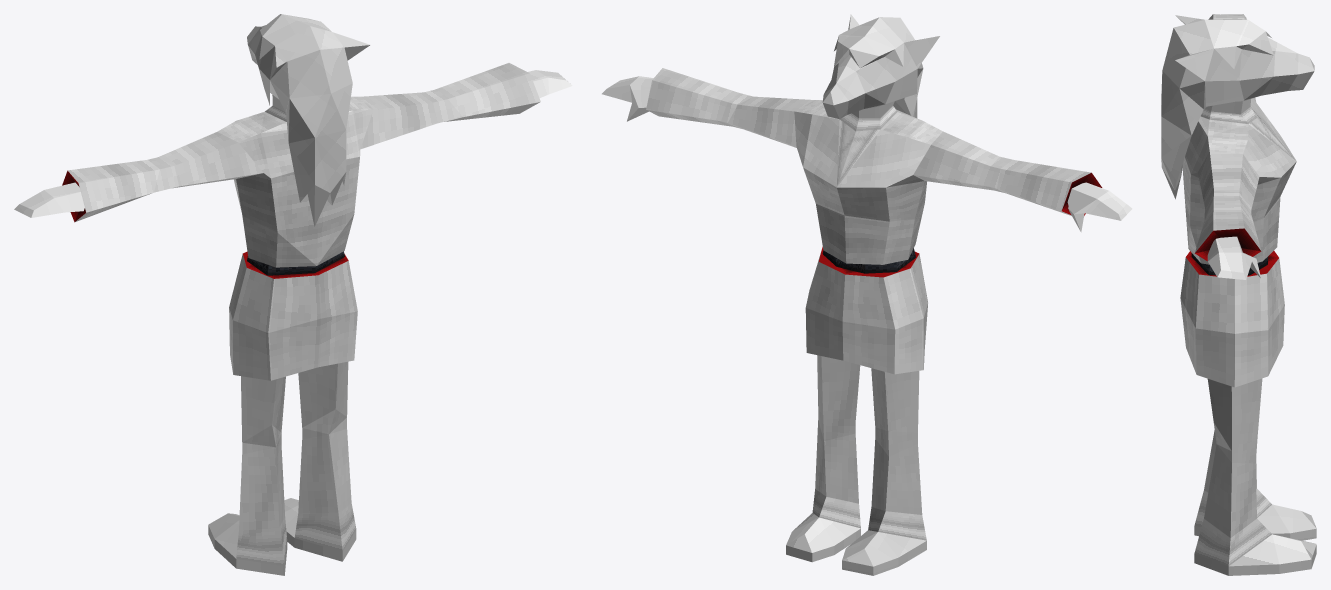
The model's file is player.glb.
The picture shows the model from 3 angles, left to right: view 1: azimuth 30°, elevation 25°; view 2: azimuth 150°, elevation 25°; view 3: azimuth 270°, elevation 25°; orthographic projection. The views are drawn at different scales.
Parts seen in each view (by area): view 1: Player, HandLeft_Open, HandRight_Open; view 2: Player, HandLeft_Open, HandRight_Open; view 3: Player, HandRight_Open.
Boxes of the visible parts, x1,y1,x2,y2 form: Player: (62,14,540,575); HandLeft_Open: (14,182,84,217); HandRight_Open: (528,70,572,97); Player: (646,14,1102,575); HandLeft_Open: (1067,182,1132,232); HandRight_Open: (602,76,653,121); Player: (1161,14,1316,575); HandRight_Open: (1207,236,1260,279).
Bounding box in the file's own units: 1.61 × 1.52 × 0.4034.
Materials: 4 (4 with a texture image).
